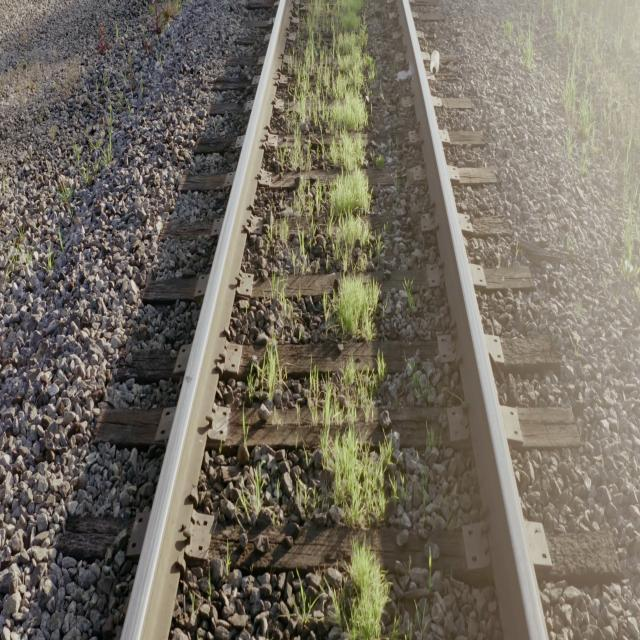Plant: (290, 0, 381, 340), (309, 360, 391, 527), (350, 538, 389, 640), (349, 542, 389, 638), (249, 338, 281, 393), (240, 464, 261, 516), (281, 136, 318, 162), (270, 218, 290, 247)
